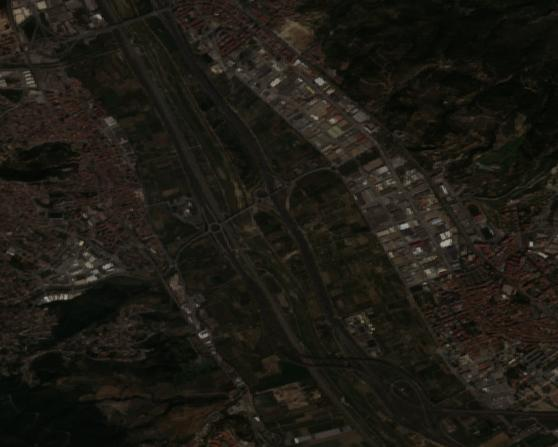Agricola: (184, 223, 418, 447), (71, 35, 220, 249)
Industria: (219, 25, 483, 278), (1, 1, 124, 61)
Poblacion: (1, 50, 218, 351), (414, 201, 558, 402), (152, 1, 299, 61)
